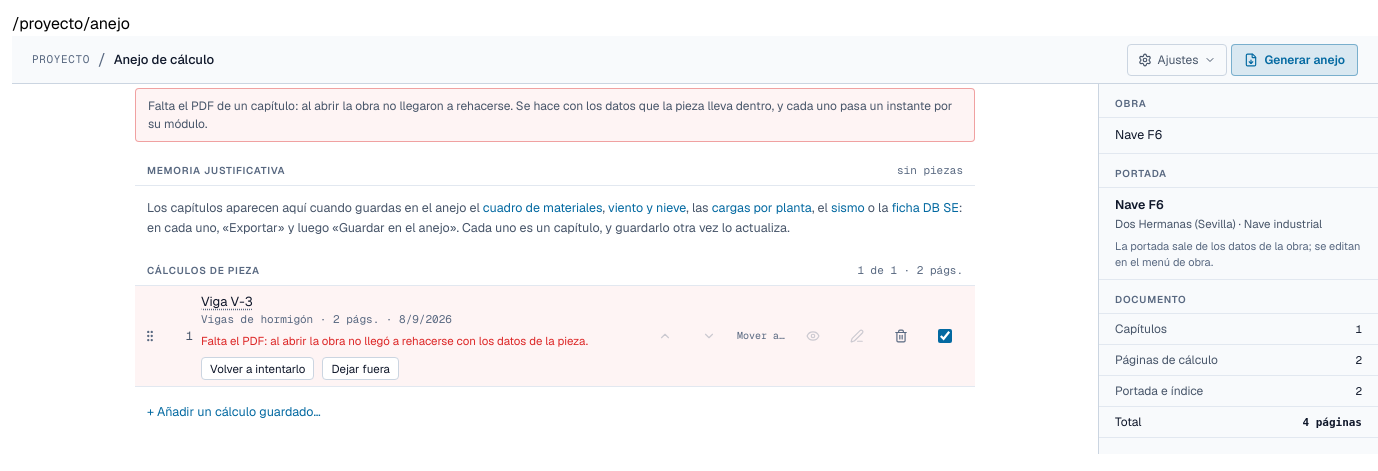
Test: abrir un cálculo del anejo en su módulo › con el cálculo ya guardado, pinchar el título lleva al módulo sin preguntar nada
The width and height of the screenshot is (1378, 471).
Click the button "Viga V-3" at (227, 301), box x1=201 y1=292 x2=253 y2=311
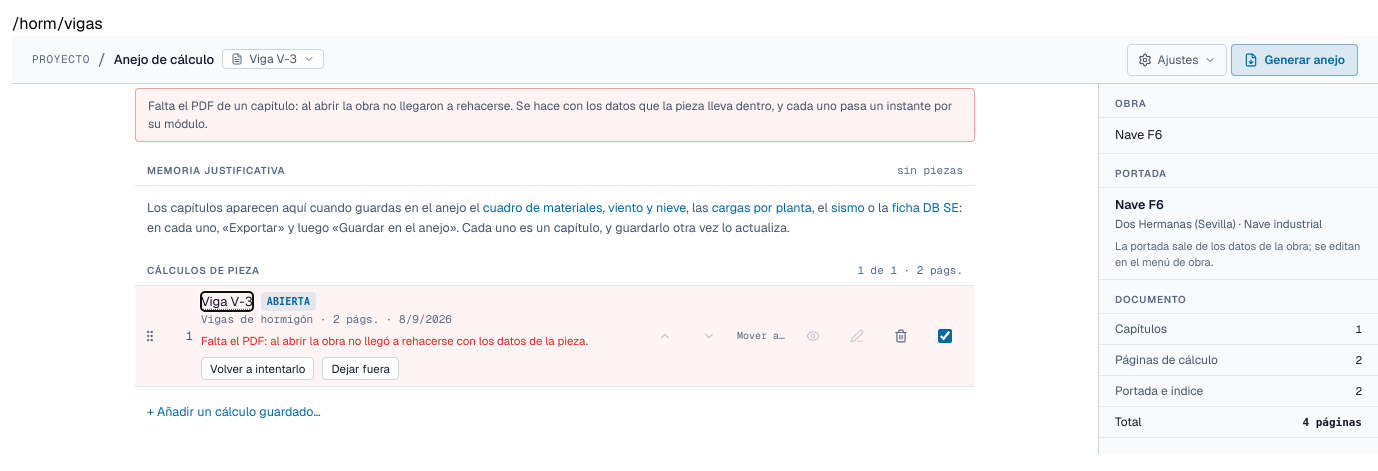
Expected: the text with test id "ruta" reads "/horm/vigas", x1=12 y1=13 x2=103 y2=34
